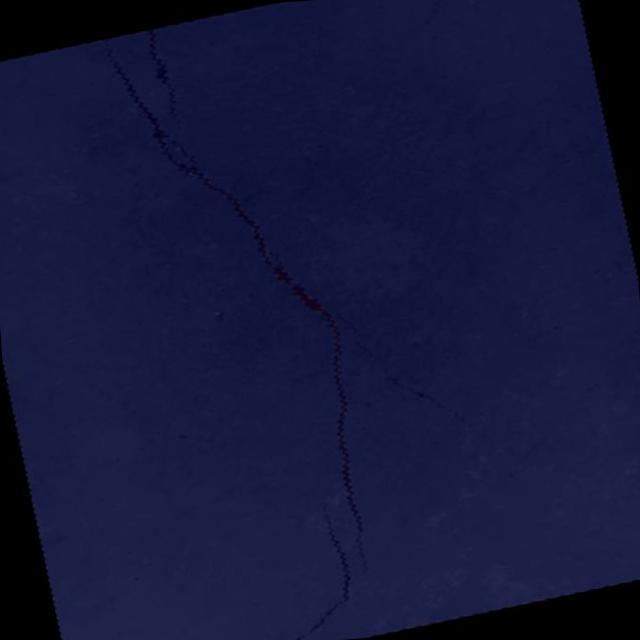crack: (101, 0, 508, 585), (254, 519, 363, 640), (146, 26, 182, 133), (504, 439, 548, 478), (479, 446, 508, 494), (321, 499, 332, 522)
